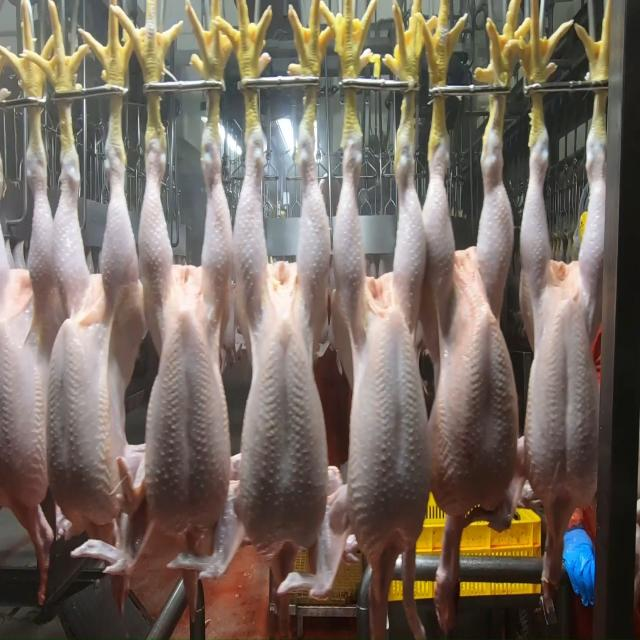chicken: (237, 123, 331, 558), (518, 108, 611, 526), (427, 107, 520, 523), (342, 129, 432, 555), (137, 147, 233, 544), (50, 152, 136, 554), (0, 119, 52, 502)
